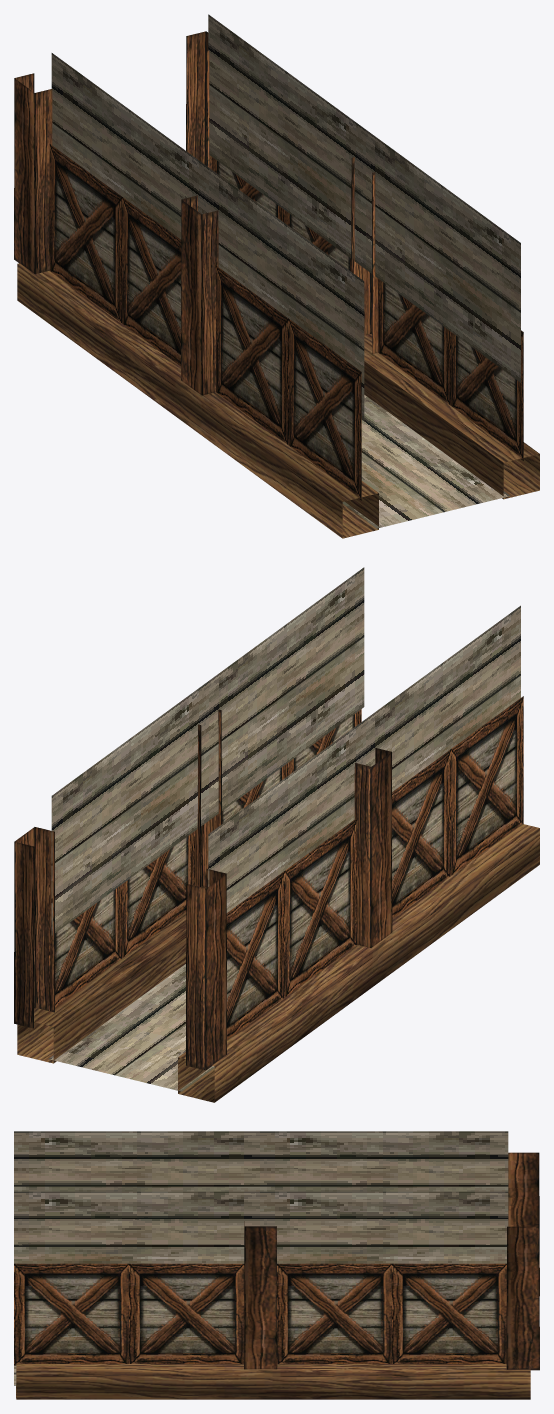
Rendered from LAKETOWN_EXTERIOR_PS_LT_BRIDGE_828__GX.fbx.
3 renders of one model, top to bottom at view 1: azimuth 30°, elevation 25°; view 2: azimuth 150°, elevation 25°; view 3: azimuth 270°, elevation 25°, orthographic. The views are drawn at different scales.
Visible parts, largest first — view 1: LAKETOWN_EXTERIOR_PS_LT_BRIDGE_828__GX; view 2: LAKETOWN_EXTERIOR_PS_LT_BRIDGE_828__GX; view 3: LAKETOWN_EXTERIOR_PS_LT_BRIDGE_828__GX.
Boxes of the visible parts, x1,y1,x2,y2 form: LAKETOWN_EXTERIOR_PS_LT_BRIDGE_828__GX: (14,14,539,538); LAKETOWN_EXTERIOR_PS_LT_BRIDGE_828__GX: (14,567,539,1102); LAKETOWN_EXTERIOR_PS_LT_BRIDGE_828__GX: (14,1131,539,1399).
Size of the model in its own units: 16387 by 20108 by 47855.
Materials: 4 (4 with a texture image).
